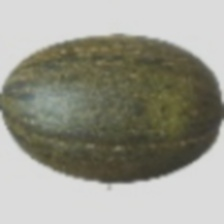honeydew: (0, 31, 199, 224)
